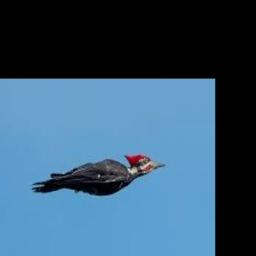Woodpecker: (31, 153, 164, 196)
